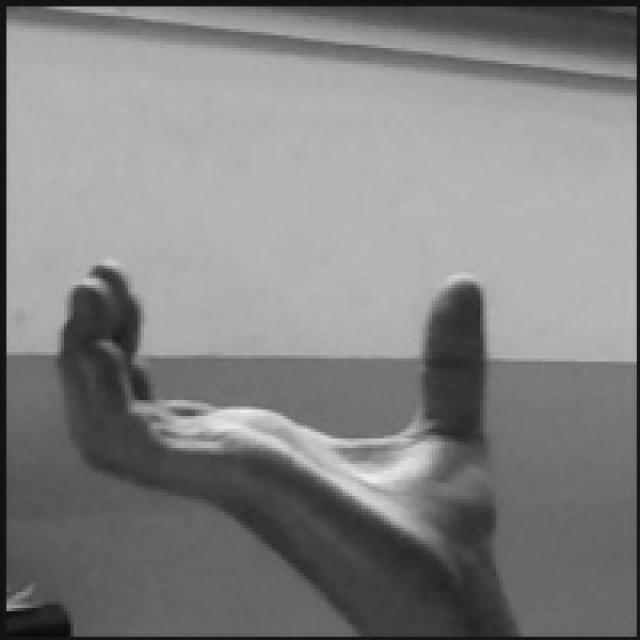space: (49, 254, 503, 563)
